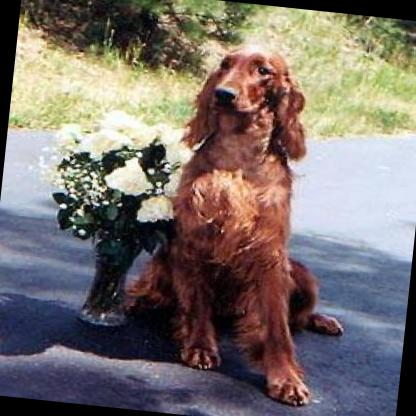Irish_setter: (106, 29, 372, 410)
